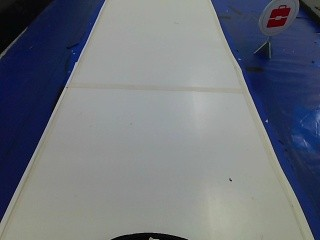company: (259, 0, 299, 35)
